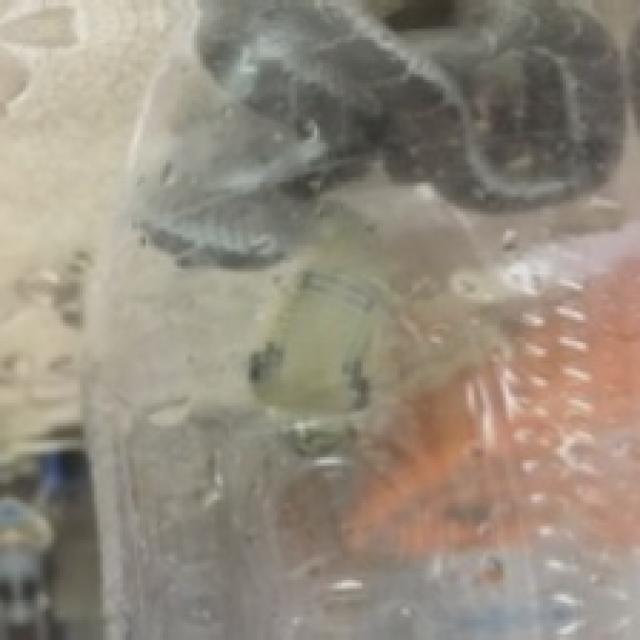king cobra: (131, 0, 620, 263)
